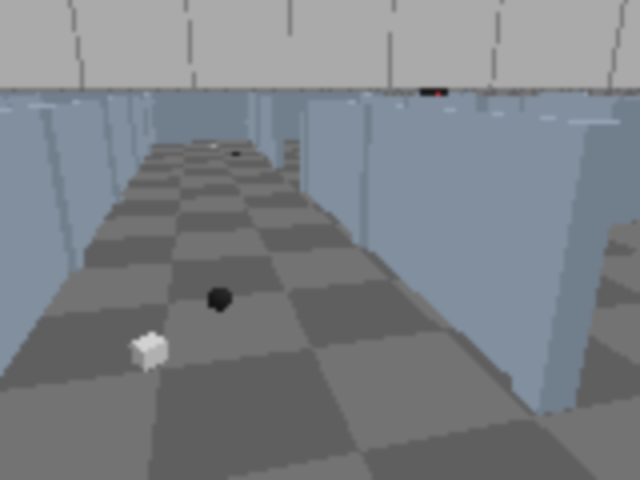puck: (129, 332, 169, 371), (203, 281, 236, 317)
